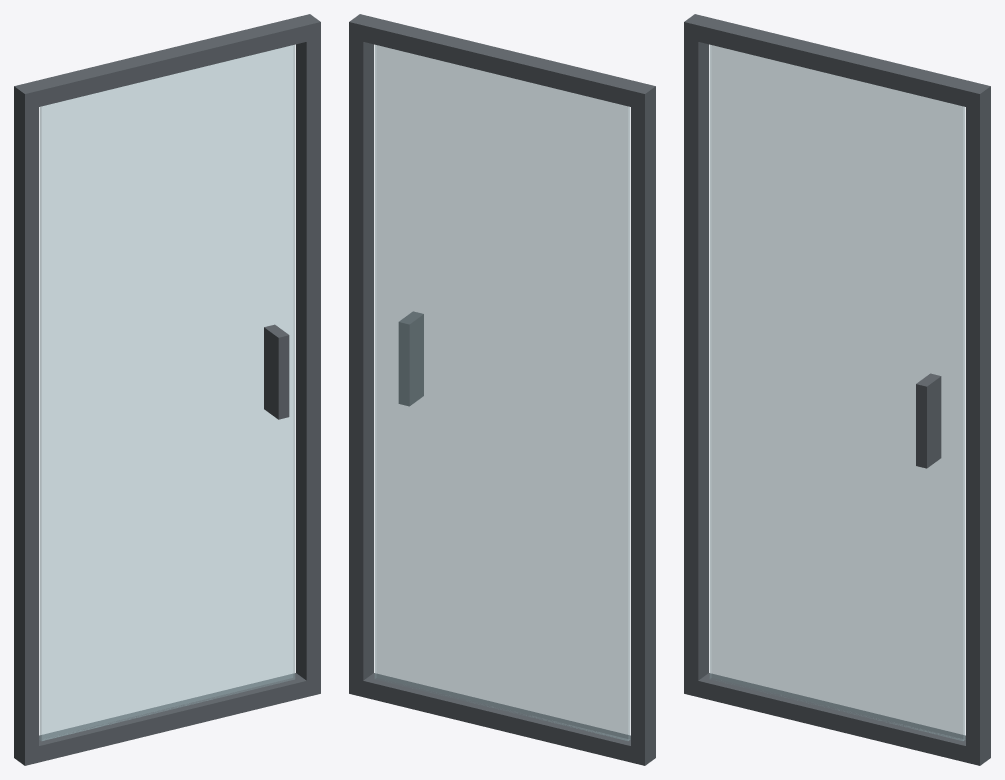
File: puerta-negro-claro.glb
3 renders of one model, left to right at view 1: azimuth 30°, elevation 25°; view 2: azimuth 150°, elevation 25°; view 3: azimuth 330°, elevation 25°, orthographic.
Parts seen in each view (by area): view 1: glass, post-0.45, post0.45, rail2.025, rail0.025, handle; view 2: glass, post-0.45, post0.45, rail2.025, rail0.025, handle; view 3: glass, post0.45, post-0.45, rail2.025, rail0.025, handle.
Boxes of the visible parts, bbox=[...] form: glass: bbox=[39, 45, 295, 740]; post-0.45: bbox=[14, 83, 38, 765]; post0.45: bbox=[296, 14, 320, 696]; rail2.025: bbox=[22, 17, 313, 107]; rail0.025: bbox=[32, 673, 313, 763]; handle: bbox=[264, 324, 289, 419]; glass: bbox=[374, 45, 630, 740]; post-0.45: bbox=[631, 83, 655, 765]; post0.45: bbox=[349, 14, 373, 696]; rail2.025: bbox=[356, 16, 648, 108]; rail0.025: bbox=[356, 673, 637, 763]; handle: bbox=[399, 311, 423, 406]; glass: bbox=[709, 45, 965, 740]; post0.45: bbox=[966, 83, 990, 765]; post-0.45: bbox=[684, 14, 708, 696]; rail2.025: bbox=[691, 17, 982, 107]; rail0.025: bbox=[691, 673, 972, 763]; handle: bbox=[916, 373, 941, 468].
Bounding box in the file's own units: 0.945 × 2.05 × 0.12.
